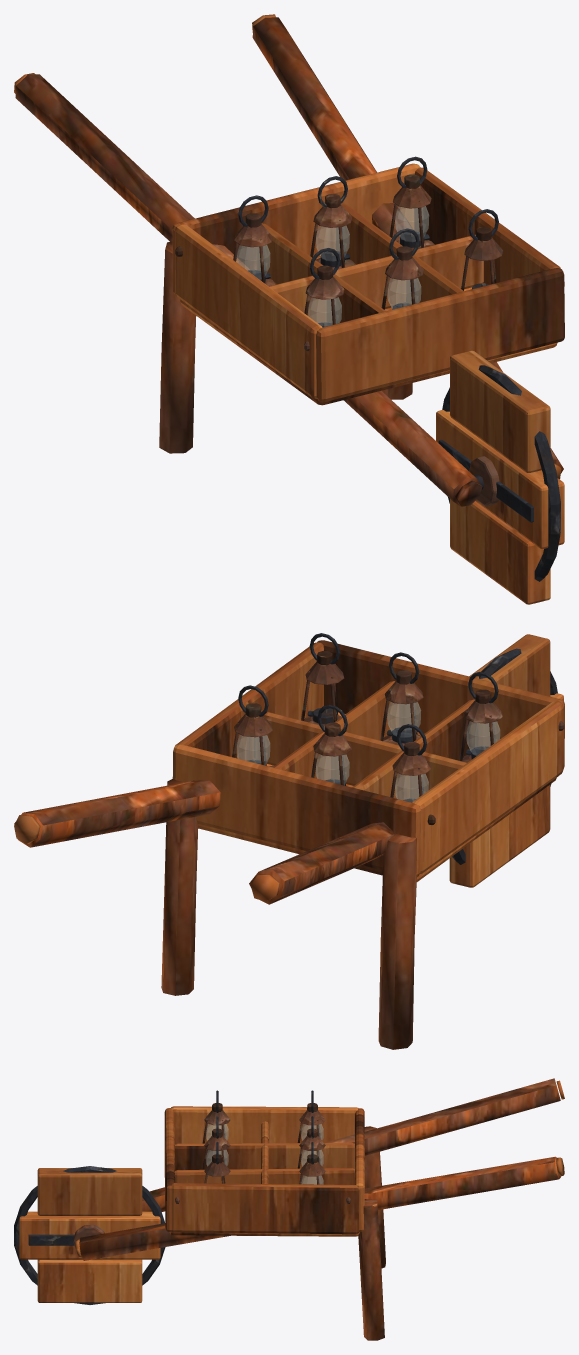
Rendered from lw_lamp_barrow.glb.
The picture shows the model from 3 angles, top to bottom: view 1: azimuth 30°, elevation 25°; view 2: azimuth 150°, elevation 25°; view 3: azimuth 270°, elevation 25°; orthographic projection. The views are drawn at different scales.
Visible parts, largest first — view 1: model; view 2: model; view 3: model.
Boxes of the visible parts, x1,y1,x2,y2 form: model: [14, 14, 564, 604]; model: [14, 633, 564, 1049]; model: [14, 1078, 564, 1340].
Size of the model in its own units: 0.544 by 0.5453 by 1.45.
Materials: 19 (13 with a texture image).
